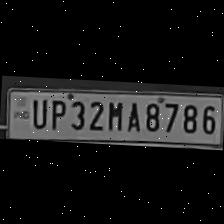2: (85, 96, 105, 130)
3: (66, 95, 86, 129)
6: (198, 100, 218, 134)
7: (161, 98, 179, 132)
8: (140, 97, 162, 131), (177, 99, 199, 133)
A: (122, 97, 142, 131)
M: (104, 96, 124, 132)
P: (45, 95, 65, 129)
U: (27, 94, 47, 128)
